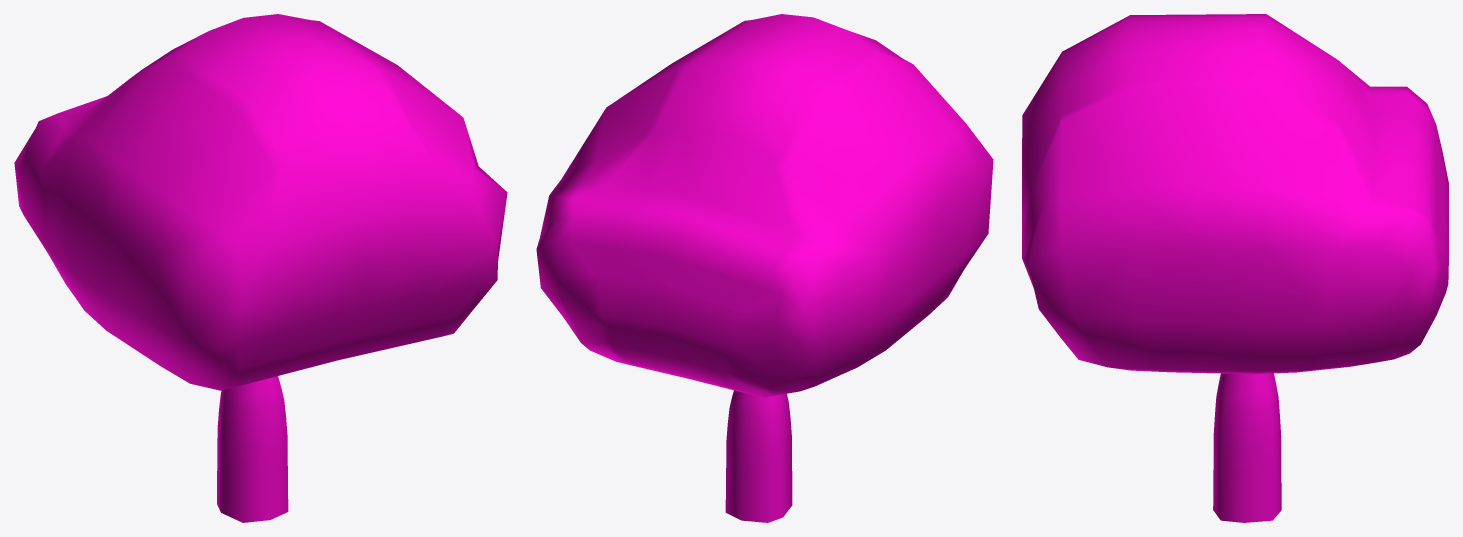
File: Arbol 1.fbx
The picture shows the model from 3 angles, left to right: view 1: azimuth 30°, elevation 25°; view 2: azimuth 150°, elevation 25°; view 3: azimuth 270°, elevation 25°; orthographic projection. The views are drawn at different scales.
Parts seen in each view (by area): view 1: Arbol_1_Low; view 2: Arbol_1_Low; view 3: Arbol_1_Low.
Part boxes in pixels (x1,y1,x2,y2): Arbol_1_Low: [14, 14, 507, 522]; Arbol_1_Low: [536, 14, 993, 522]; Arbol_1_Low: [1022, 14, 1448, 522].
Bounding box in the file's own units: 558 × 746 × 601.
